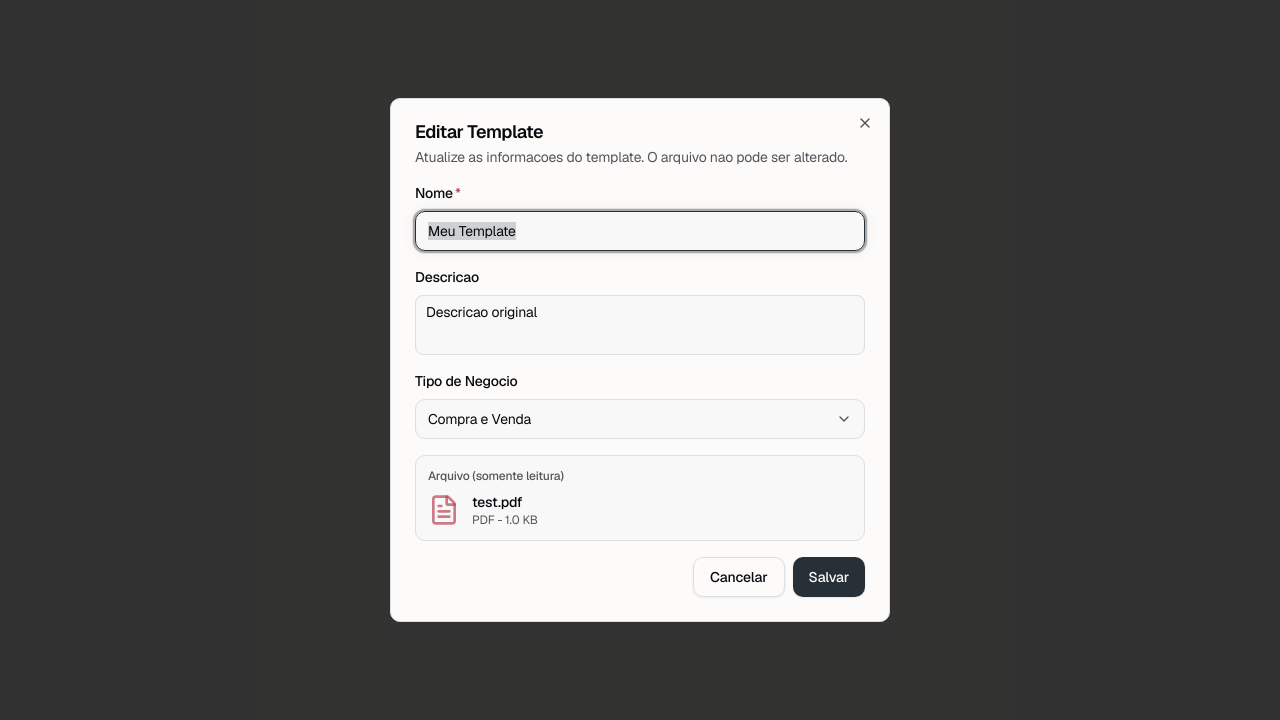
it: TemplateEditModal › Validation › requires nome field
The image size is (1280, 720).
Clear the field labelled "Nome*" at [640, 231], box [415,211,865,251]
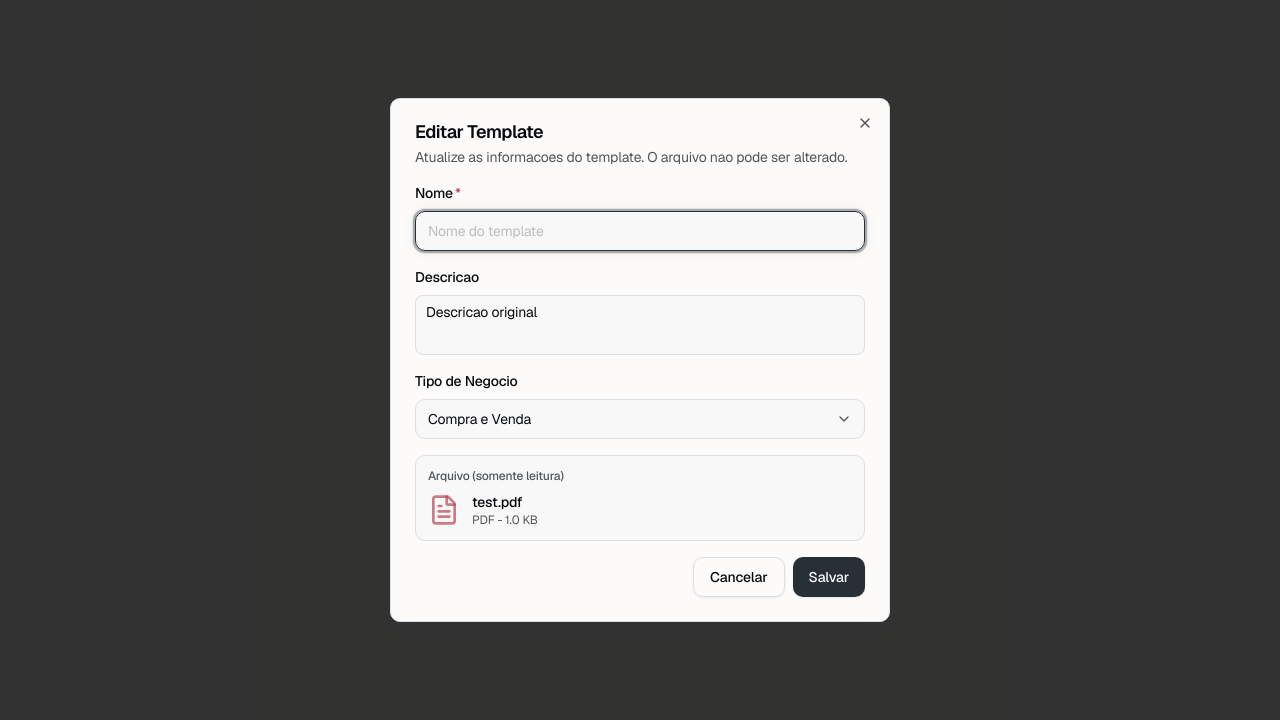
Click the button "Salvar" at [829, 577], box [793,557,865,597]
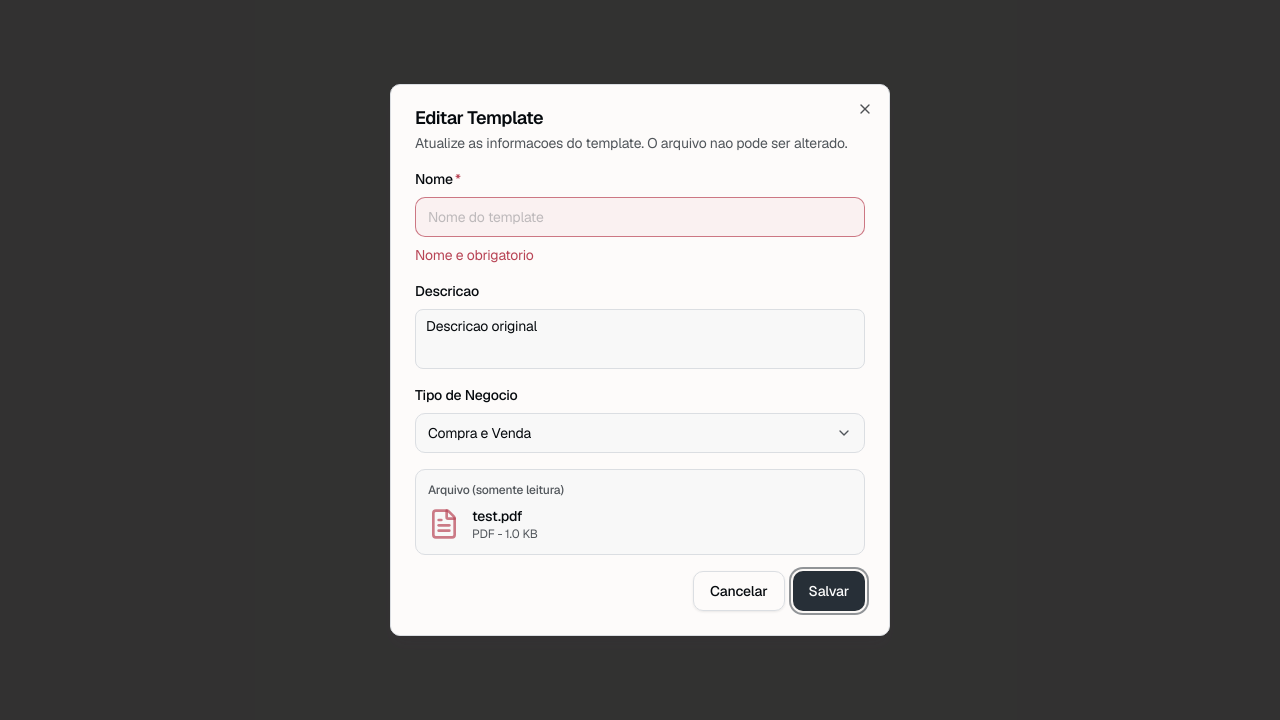
Result: the text "Nome e obrigatorio" is shown at [415,246,534,264]
